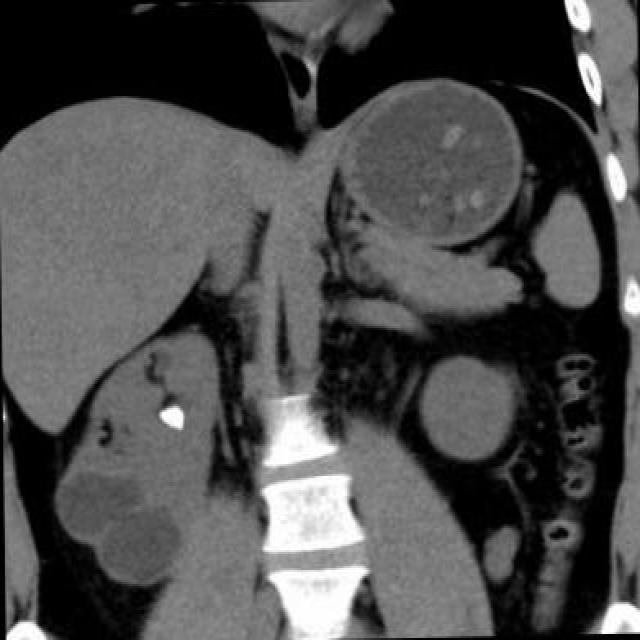Tas_Var: (153, 401, 187, 437)
